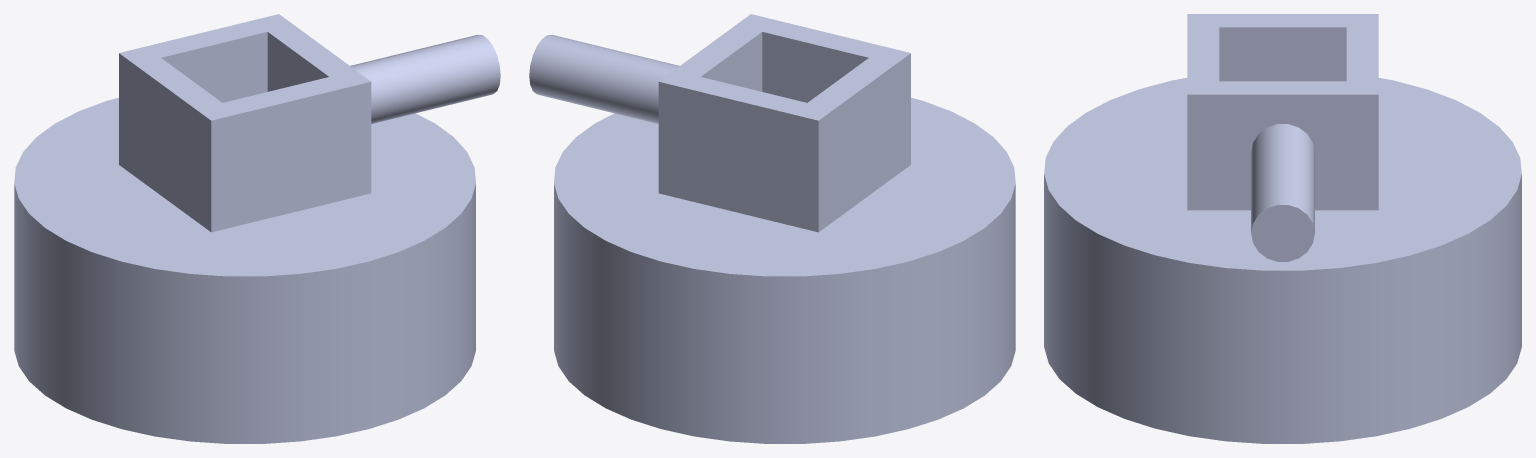
File: sheet.fbx
3 renders of one model, left to right at view 1: azimuth 30°, elevation 25°; view 2: azimuth 150°, elevation 25°; view 3: azimuth 270°, elevation 25°, orthographic. The views are drawn at different scales.
Parts seen in each view (by area): view 1: 凸台-拉伸3; view 2: 凸台-拉伸3; view 3: 凸台-拉伸3.
Part boxes in pixels (box(x1,y1,x2,y2)): 凸台-拉伸3: box(14, 14, 500, 443); 凸台-拉伸3: box(529, 14, 1015, 443); 凸台-拉伸3: box(1044, 14, 1521, 443).
Bounding box in the file's own units: 1.95 × 1.18 × 1.77.
